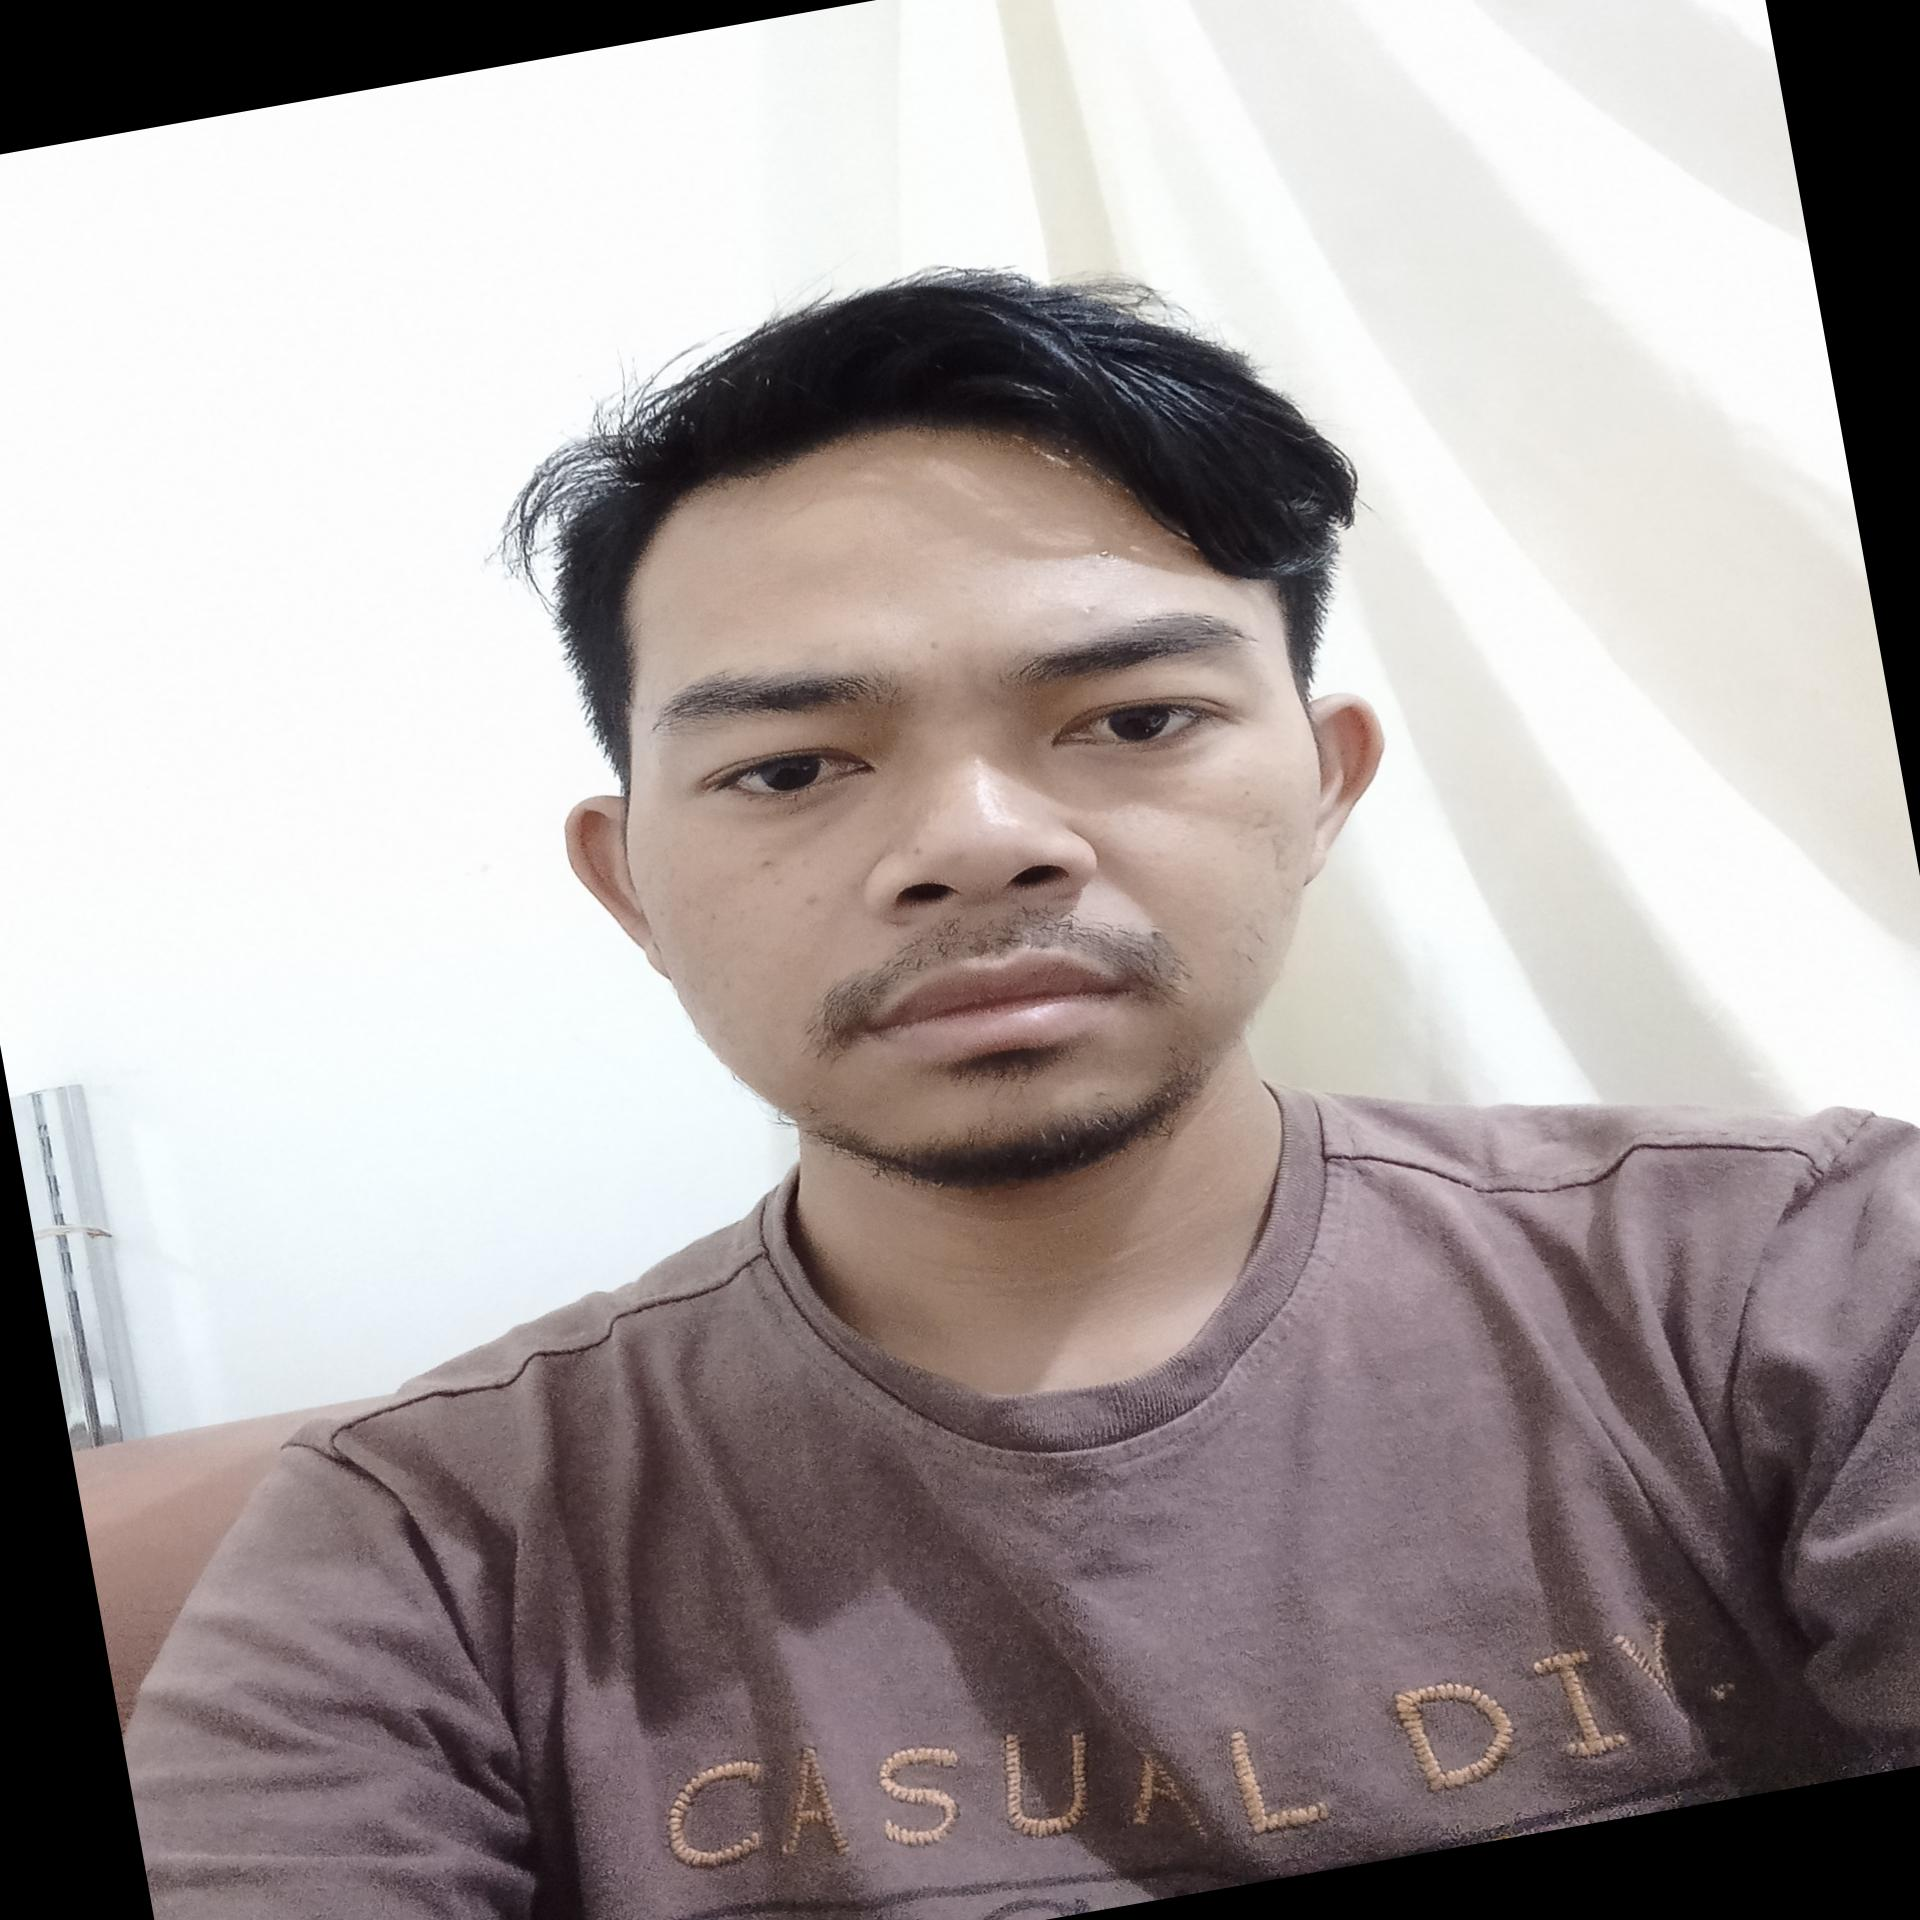Acne: (1248, 802, 1306, 881), (1073, 600, 1108, 621), (798, 888, 828, 911), (765, 872, 791, 893), (909, 840, 932, 862), (716, 974, 738, 993), (756, 853, 777, 872), (925, 635, 942, 654), (707, 909, 723, 930)
